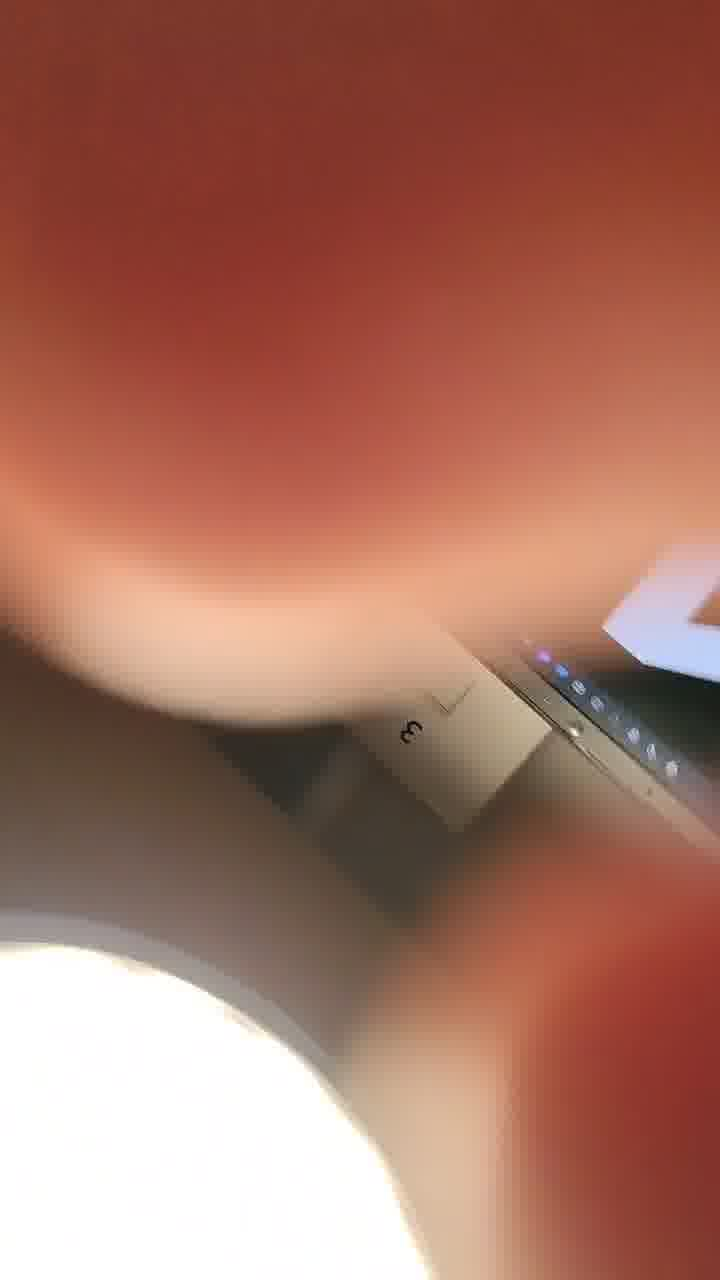one: (562, 425, 720, 738)
